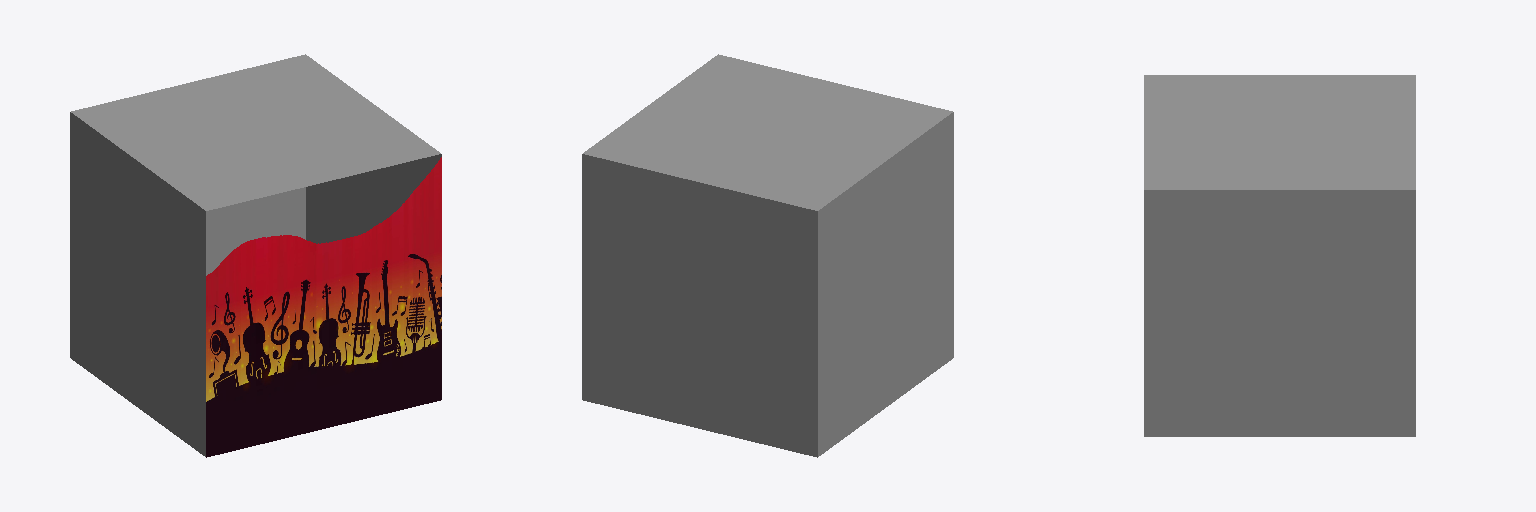
3 renders of one model, left to right at view 1: azimuth 30°, elevation 25°; view 2: azimuth 150°, elevation 25°; view 3: azimuth 270°, elevation 25°, orthographic.
Parts seen in each view (by area): view 1: Cube; view 2: Cube; view 3: Cube.
Boxes of the visible parts, x1=… form: Cube: x1=70, y1=54, x2=441, y2=457; Cube: x1=582, y1=54, x2=953, y2=457; Cube: x1=1144, y1=75, x2=1415, y2=436.
Bounding box in the file's own units: 2 × 2 × 2.
Materials: 2 (1 with a texture image).